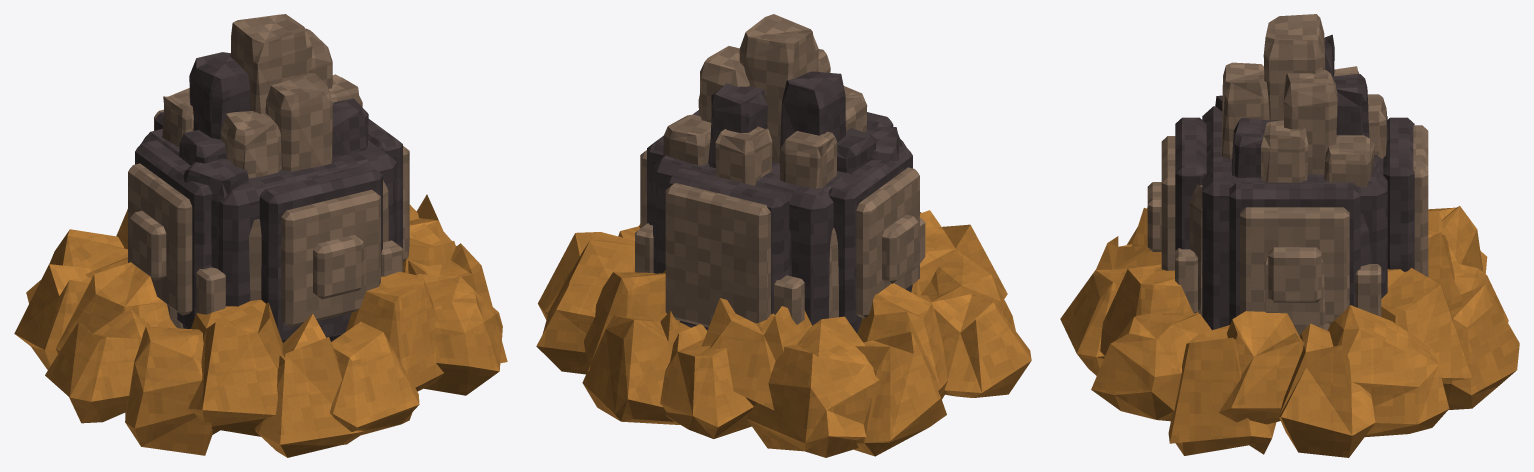
File: Amber Stone Egg.fbx
3 renders of one model, left to right at view 1: azimuth 30°, elevation 25°; view 2: azimuth 150°, elevation 25°; view 3: azimuth 270°, elevation 25°, orthographic.
Visible parts, largest first — view 1: Amber boulder 17, Front | limestone plaque, Amber boulder 16, Amber boulder 18, Amber boulder 15, Amber boulder 01, Basalt center, Amber boulder 03, Amber boulder 02, Front | dark plaque bed, Left | limestone plaque, Crown column 01 (+24 smaller); view 2: Rear | limestone plaque, Amber boulder 12, Amber boulder 09, Basalt center, Amber boulder 15, Amber boulder 13, Amber boulder 10, Amber boulder 07, Amber boulder 11, Crown column 01, Left | limestone plaque, Left | dark plaque bed (+21 smaller); view 3: Amber boulder 07, Amber boulder 06, Basalt center, Amber boulder 03, Right | limestone plaque, Amber boulder 04, Amber boulder 05, Amber boulder 09, Right | dark plaque bed, Amber boulder 08, Rear | dark plaque bed, Crown column 01 (+24 smaller).
Part boxes in pixels (bbox=[...]): Amber boulder 17: bbox=[188, 299, 283, 436]; Front | limestone plaque: bbox=[281, 189, 380, 327]; Amber boulder 16: bbox=[125, 326, 219, 455]; Amber boulder 18: bbox=[255, 314, 363, 457]; Amber boulder 15: bbox=[45, 310, 149, 423]; Amber boulder 01: bbox=[330, 322, 419, 435]; Basalt center: bbox=[141, 128, 396, 306]; Amber boulder 03: bbox=[418, 274, 502, 395]; Amber boulder 02: bbox=[345, 271, 443, 391]; Front | dark plaque bed: bbox=[259, 164, 382, 342]; Left | limestone plaque: bbox=[128, 163, 192, 315]; Crown column 01: bbox=[230, 14, 312, 113]; Rear | limestone plaque: bbox=[665, 183, 770, 327]; Amber boulder 12: bbox=[747, 316, 879, 457]; Amber boulder 09: bbox=[582, 310, 681, 424]; Basalt center: bbox=[653, 139, 906, 325]; Amber boulder 15: bbox=[931, 294, 1031, 397]; Amber boulder 13: bbox=[854, 330, 946, 456]; Amber boulder 10: bbox=[660, 324, 753, 438]; Amber boulder 07: bbox=[536, 240, 634, 374]; Amber boulder 11: bbox=[702, 298, 811, 410]; Crown column 01: bbox=[739, 14, 818, 162]; Left | limestone plaque: bbox=[856, 167, 919, 318]; Left | dark plaque bed: bbox=[829, 146, 912, 332]; Amber boulder 07: bbox=[1328, 305, 1449, 437]; Amber boulder 06: bbox=[1279, 323, 1375, 457]; Basalt center: bbox=[1202, 106, 1387, 330]; Amber boulder 03: bbox=[1091, 300, 1211, 421]; Right | limestone plaque: bbox=[1240, 207, 1349, 323]; Amber boulder 04: bbox=[1168, 325, 1276, 455]; Amber boulder 05: bbox=[1219, 311, 1304, 424]; Amber boulder 09: bbox=[1442, 273, 1519, 409]; Right | dark plaque bed: bbox=[1229, 182, 1360, 324]; Amber boulder 08: bbox=[1381, 268, 1472, 384]; Rear | dark plaque bed: bbox=[1383, 117, 1414, 271]; Crown column 01: bbox=[1263, 14, 1325, 120].
Bounding box in the file's own units: 355 × 277 × 322.
Materials: 3 (3 with a texture image).
